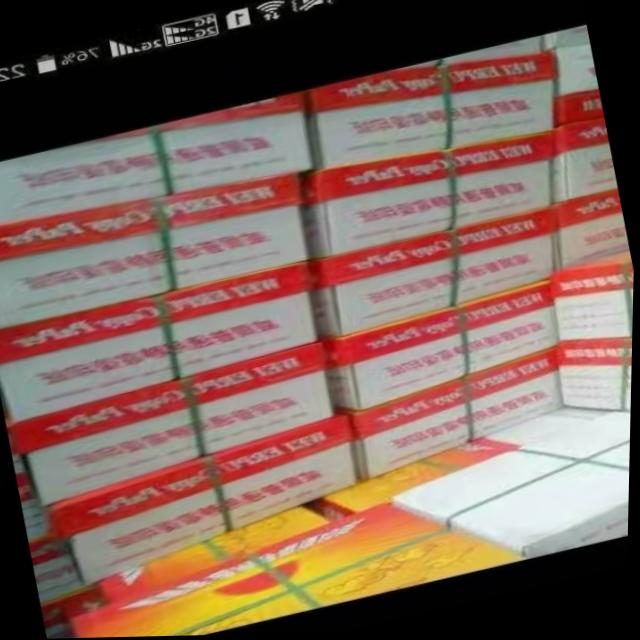box: (71, 501, 529, 638), (50, 406, 365, 586), (9, 341, 336, 508), (0, 260, 320, 424), (0, 172, 311, 328), (0, 91, 315, 224), (394, 415, 633, 561), (318, 410, 614, 522), (298, 133, 553, 262), (308, 206, 553, 339), (319, 278, 560, 412), (353, 348, 568, 485), (309, 51, 554, 169), (100, 507, 336, 603), (554, 254, 635, 343), (550, 192, 631, 276), (552, 119, 618, 207), (556, 341, 634, 415), (552, 45, 604, 130), (43, 583, 111, 639), (32, 543, 86, 603), (439, 37, 545, 66), (14, 455, 44, 512), (26, 508, 64, 549), (539, 26, 590, 54)
